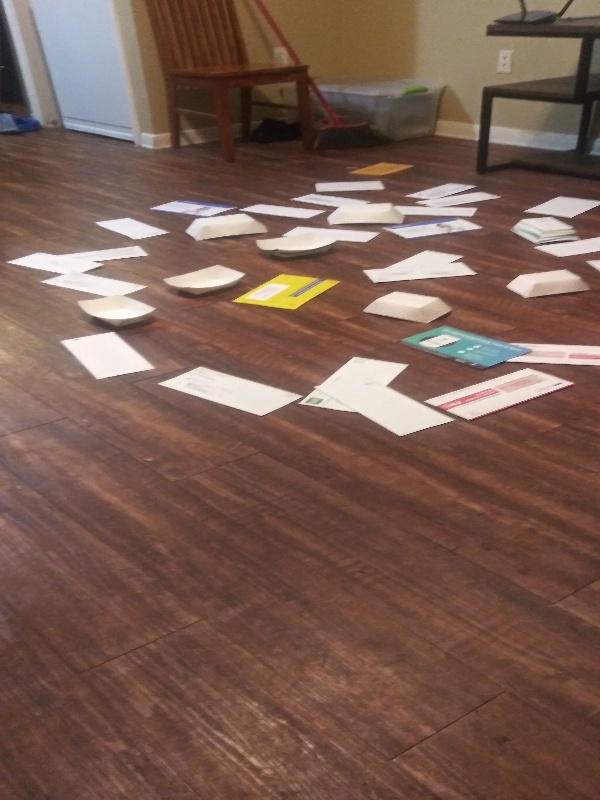plate: (358, 287, 456, 326), (75, 292, 159, 332), (501, 268, 597, 302), (162, 263, 250, 297), (181, 211, 271, 244), (254, 229, 340, 259), (505, 215, 584, 247), (322, 200, 410, 226)
